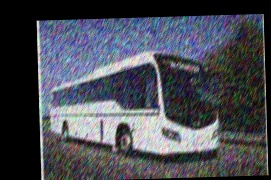bus: (48, 48, 221, 163)
